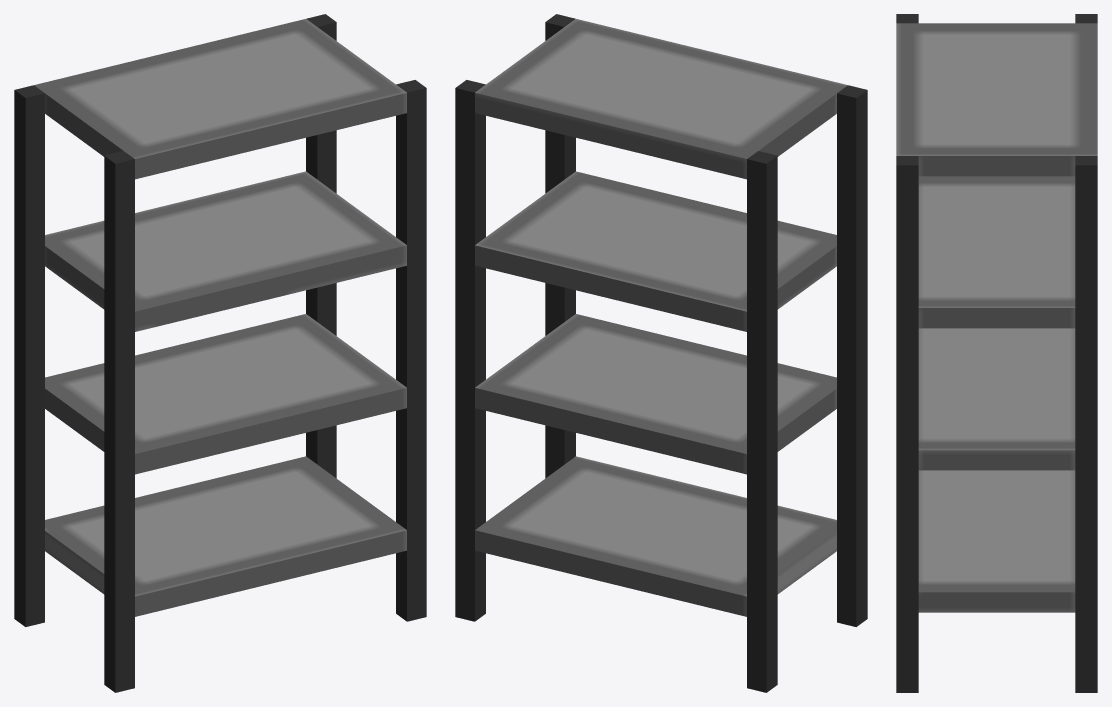
File: Shelf.fbx
3 views of the same model, side by side, from view 1: azimuth 30°, elevation 25°; view 2: azimuth 150°, elevation 25°; view 3: azimuth 270°, elevation 25° (orthographic).
Visible parts, largest first — view 1: cube_4, cube_5, cube_7, cube_6, cube_3, cube_1, cube_2, cube; view 2: cube_4, cube_5, cube_7, cube_6, cube_1, cube_3, cube, cube_2; view 3: cube_4, cube_7, cube_5, cube_6, cube, cube_2.
Boxes of the visible parts, <box> form: cube_4: <box>34,19,406,179</box>; cube_5: <box>45,456,406,616</box>; cube_7: <box>45,171,406,331</box>; cube_6: <box>45,314,406,474</box>; cube_3: <box>104,151,134,692</box>; cube_1: <box>14,85,44,626</box>; cube_2: <box>396,80,426,621</box>; cube: <box>306,14,336,478</box>; cube_4: <box>475,19,847,179</box>; cube_5: <box>475,456,836,616</box>; cube_7: <box>475,171,836,331</box>; cube_6: <box>475,314,836,474</box>; cube_1: <box>747,151,777,692</box>; cube_3: <box>837,85,867,626</box>; cube: <box>455,80,485,621</box>; cube_2: <box>545,14,575,478</box>; cube_4: <box>896,23,1097,176</box>; cube_7: <box>918,176,1075,328</box>; cube_5: <box>918,470,1075,612</box>; cube_6: <box>918,328,1075,470</box>; cube: <box>1075,156,1097,692</box>; cube_2: <box>896,156,918,692</box>.
Bounding box in the file's own units: 200 × 325 × 112.
Materials: 2 (2 with a texture image).
